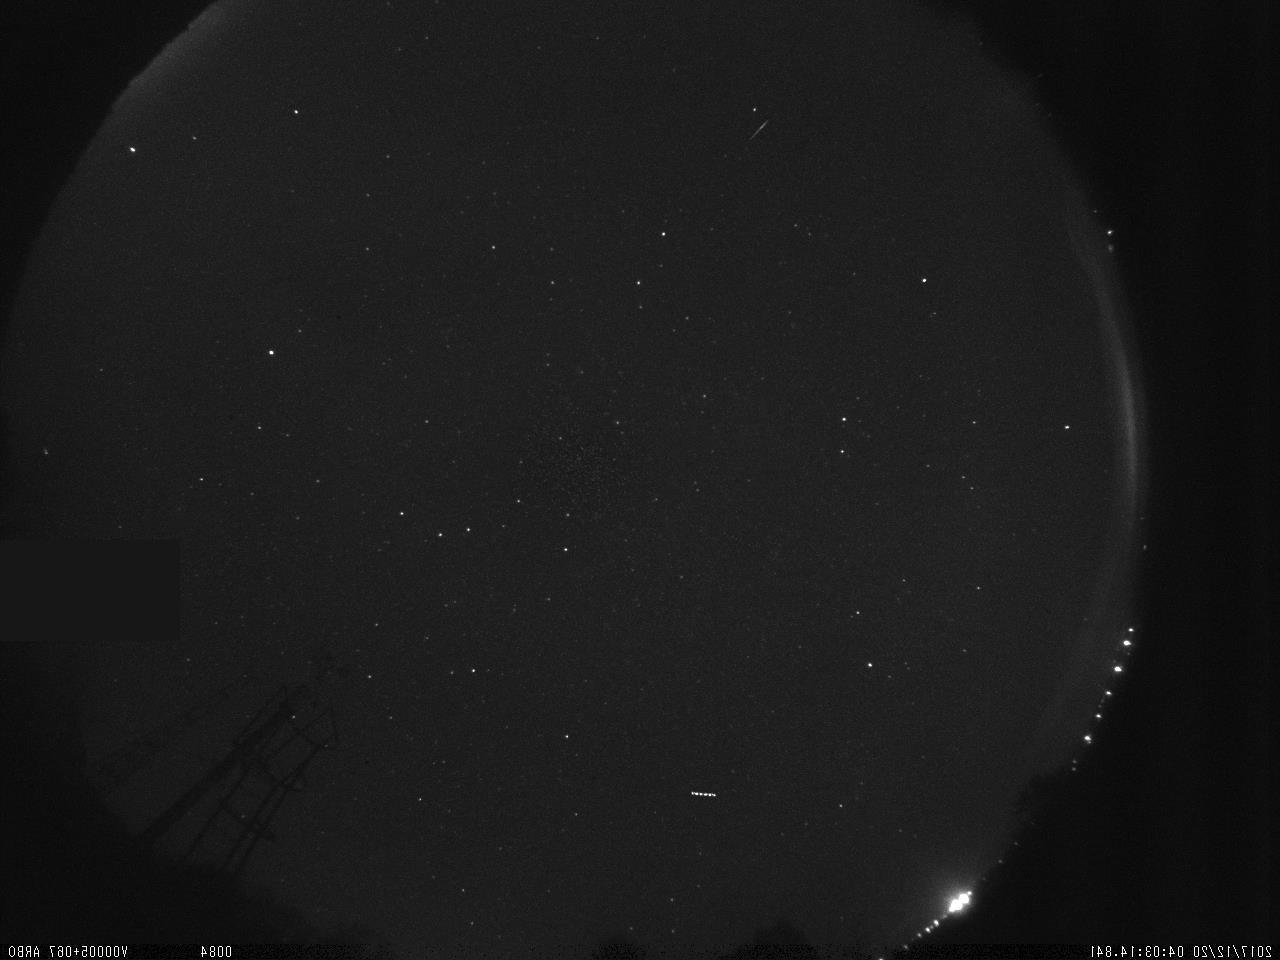meteor: (746, 115, 773, 147)
satelite: (681, 780, 721, 803)
